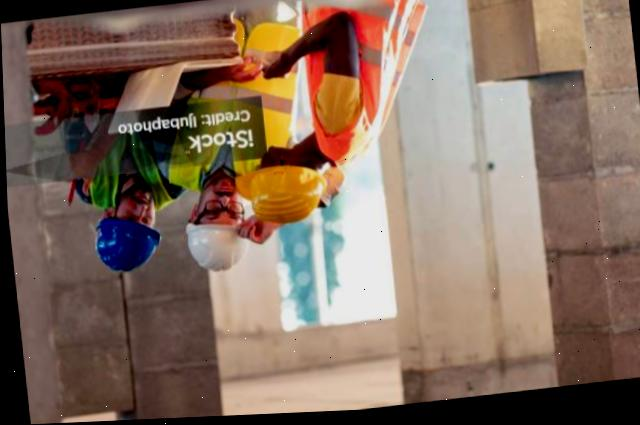helmet: (233, 161, 326, 232), (88, 211, 163, 275), (179, 213, 253, 276)
vest: (150, 16, 301, 184), (295, 0, 438, 162), (73, 94, 165, 214)
